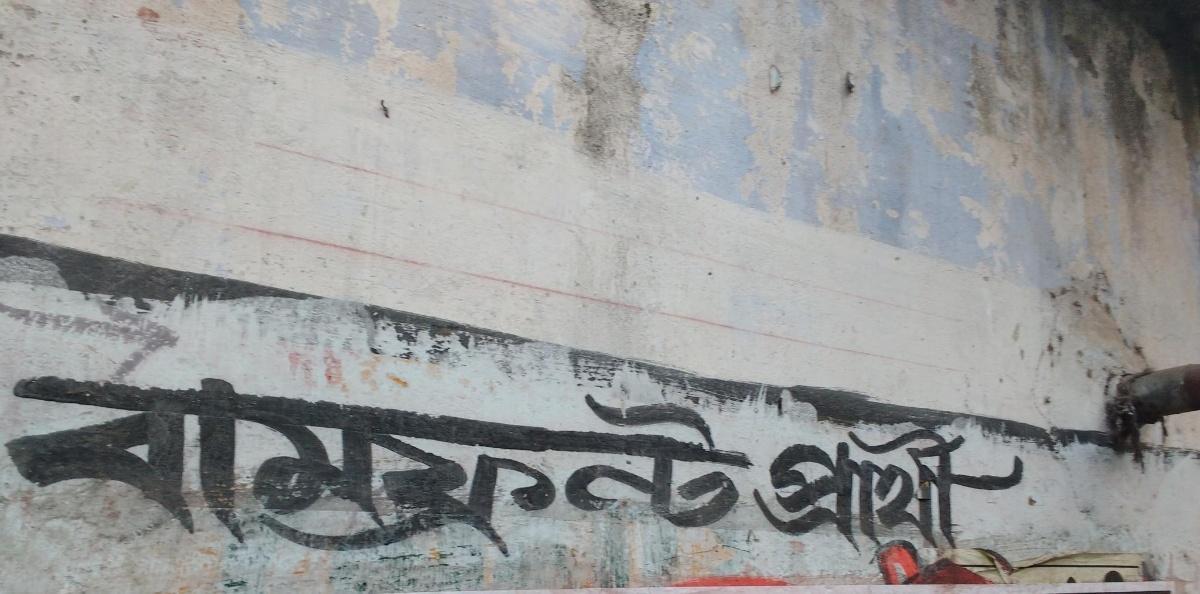text: (17, 363, 32, 560), (33, 363, 48, 560), (49, 363, 64, 560), (65, 363, 80, 560), (81, 363, 96, 560), (97, 363, 112, 560), (113, 363, 128, 560), (129, 363, 144, 560), (145, 363, 160, 560), (161, 363, 176, 560), (177, 363, 192, 560), (193, 363, 208, 560), (209, 363, 224, 560), (225, 363, 240, 560), (241, 363, 256, 560), (257, 363, 272, 560), (273, 363, 288, 560), (289, 363, 304, 560), (305, 363, 320, 560), (321, 363, 336, 560), (337, 363, 352, 560), (353, 363, 368, 560), (369, 363, 384, 560), (385, 363, 400, 560), (401, 363, 416, 560), (417, 363, 432, 560), (433, 363, 448, 560), (449, 363, 464, 560), (465, 363, 480, 560), (481, 363, 496, 560), (497, 363, 512, 560), (513, 363, 528, 560), (529, 363, 544, 560), (545, 363, 560, 560), (561, 363, 576, 560), (577, 363, 592, 560), (593, 363, 608, 560), (609, 363, 624, 560), (625, 363, 640, 560), (641, 363, 656, 560), (657, 363, 672, 560), (673, 363, 688, 560), (689, 363, 704, 560), (705, 363, 720, 560), (721, 363, 736, 560), (737, 363, 752, 560), (769, 413, 784, 556), (785, 413, 800, 556), (801, 413, 816, 556), (817, 413, 832, 556), (833, 413, 848, 556), (849, 413, 864, 556), (865, 413, 880, 556), (881, 413, 896, 556), (897, 413, 912, 556), (913, 413, 928, 556), (929, 413, 944, 556), (945, 413, 960, 556), (961, 413, 976, 556), (977, 413, 992, 556), (993, 413, 1008, 556), (1009, 413, 1024, 556), (756, 413, 768, 556), (8, 363, 16, 560), (753, 363, 756, 560), (1025, 413, 1029, 556)
